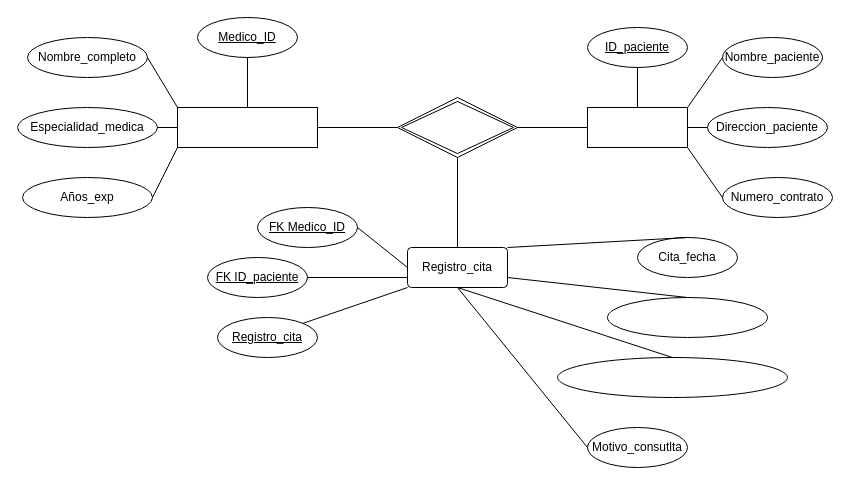
Some shapes in this 850 by 485 pixel diagram are drawn without their labels. The shapes that lost their labels are listed below. From the top down, each one's box as (x1, y1, x2, y2) in pixels, then its label:
(176, 106, 318, 148): Medico_clinica
(396, 96, 518, 158): Relationship
(586, 106, 688, 148): Parciente_clinica
(606, 296, 768, 338): Hora_cita
(556, 356, 788, 398): Diagnostico_medico_a_paciente
